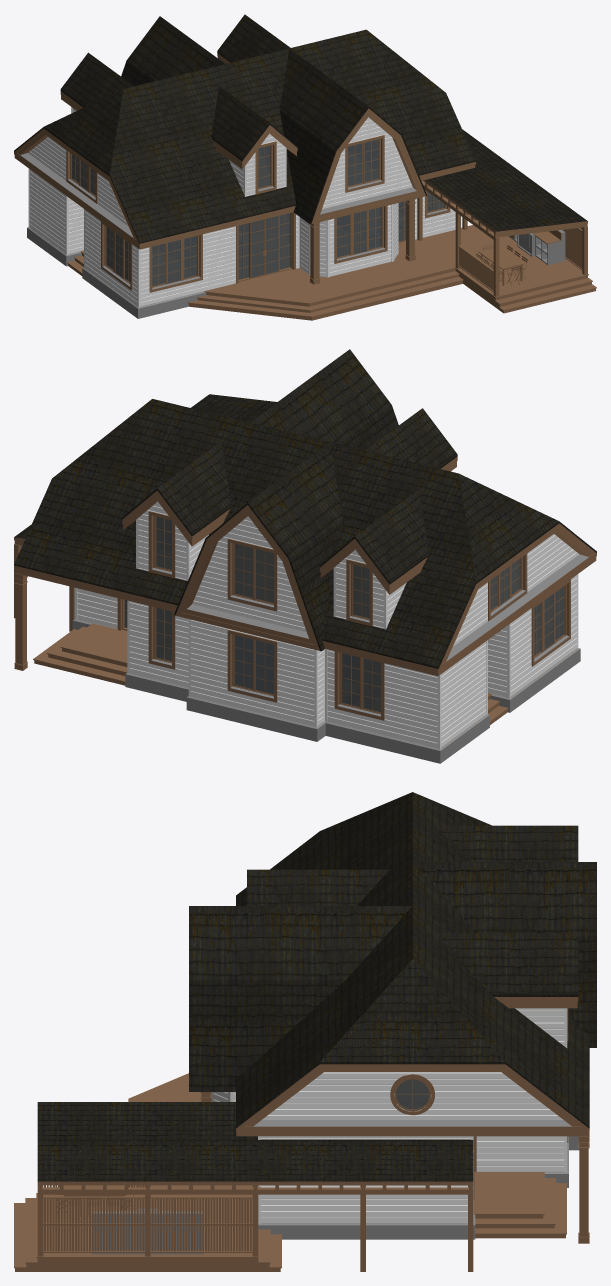
File: suburban_v2.glb
3 renders of one model, top to bottom at view 1: azimuth 30°, elevation 25°; view 2: azimuth 150°, elevation 25°; view 3: azimuth 270°, elevation 25°, orthographic. The views are drawn at different scales.
Visible parts, largest first — view 1: roof_roof_0, white_white_0, siding_siding_0, floor_floor_0, glass_glass_0, gray_base_0, siding_corners_siding_corners_0; view 2: roof_roof_0, siding_siding_0, white_white_0, glass_glass_0, gray_base_0, floor_floor_0, siding_corners_siding_corners_0; view 3: roof_roof_0, white_white_0, siding_siding_0, floor_floor_0, gray_base_0, glass_glass_0.
Boxes of the visible parts, x1=… form: roof_roof_0: x1=14, y1=14, x2=587, y2=243; white_white_0: x1=14, y1=53, x2=587, y2=296; siding_siding_0: x1=28, y1=108, x2=455, y2=306; floor_floor_0: x1=30, y1=225, x2=596, y2=320; glass_glass_0: x1=72, y1=139, x2=444, y2=286; gray_base_0: x1=20, y1=153, x2=565, y2=318; siding_corners_siding_corners_0: x1=28, y1=107, x2=461, y2=307; roof_roof_0: x1=14, y1=349, x2=596, y2=668; siding_siding_0: x1=77, y1=501, x2=579, y2=748; white_white_0: x1=14, y1=456, x2=596, y2=720; glass_glass_0: x1=124, y1=516, x2=563, y2=712; gray_base_0: x1=72, y1=554, x2=588, y2=763; floor_floor_0: x1=33, y1=619, x2=576, y2=748; siding_corners_siding_corners_0: x1=74, y1=518, x2=578, y2=749; roof_roof_0: x1=37, y1=792, x2=596, y2=1181; white_white_0: x1=37, y1=997, x2=589, y2=1271; siding_siding_0: x1=213, y1=1008, x2=564, y2=1223; floor_floor_0: x1=14, y1=1073, x2=566, y2=1271; gray_base_0: x1=91, y1=1120, x2=579, y2=1254; glass_glass_0: x1=396, y1=1079, x2=429, y2=1109.
Bounding box in the file's own units: 16.43 × 7.45 × 15.58.
Materials: 7 (1 with a texture image).
